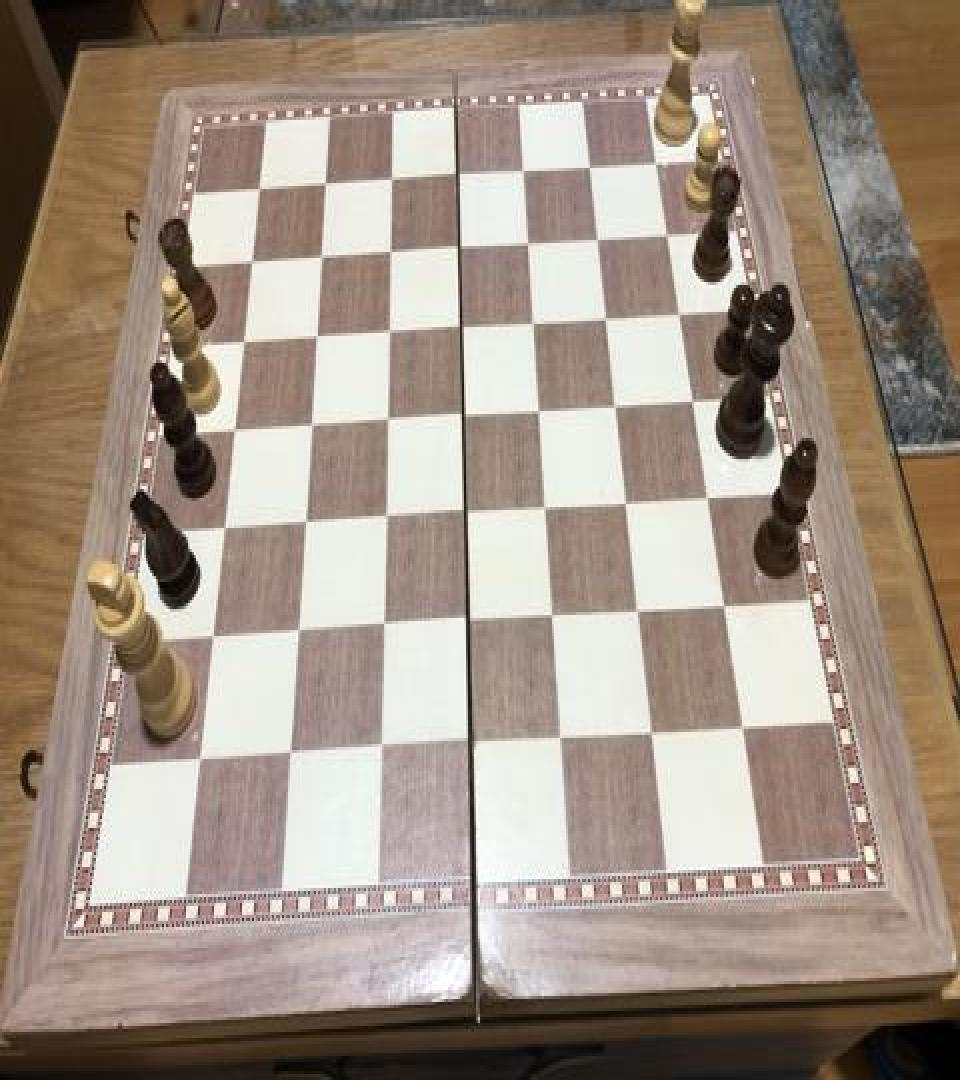xcorner: (627, 595, 651, 632), (370, 610, 394, 647), (458, 727, 482, 764), (367, 733, 391, 770), (644, 147, 668, 183), (578, 152, 602, 188), (511, 156, 535, 192), (445, 160, 469, 196), (379, 165, 403, 201), (313, 170, 337, 206), (247, 174, 271, 210), (655, 219, 679, 255), (586, 224, 610, 260), (516, 228, 540, 264), (446, 232, 470, 268), (377, 237, 401, 273), (308, 242, 332, 278), (239, 246, 263, 282), (668, 297, 692, 333), (594, 302, 618, 338), (521, 308, 545, 344), (448, 312, 472, 348), (376, 316, 400, 352), (303, 321, 327, 357), (230, 326, 254, 362), (681, 384, 705, 420), (604, 390, 628, 426), (527, 394, 551, 430), (450, 399, 474, 435), (374, 404, 398, 440), (297, 410, 321, 446), (221, 414, 245, 450), (696, 482, 720, 518), (615, 486, 639, 522), (534, 492, 558, 528), (453, 496, 477, 532), (372, 501, 396, 537), (291, 507, 315, 543), (211, 512, 235, 548), (713, 590, 737, 626), (541, 600, 565, 636), (455, 606, 479, 642), (284, 615, 308, 651), (199, 621, 223, 657), (732, 711, 756, 747), (641, 717, 665, 753), (549, 723, 573, 759), (277, 738, 301, 774), (186, 744, 210, 780)
